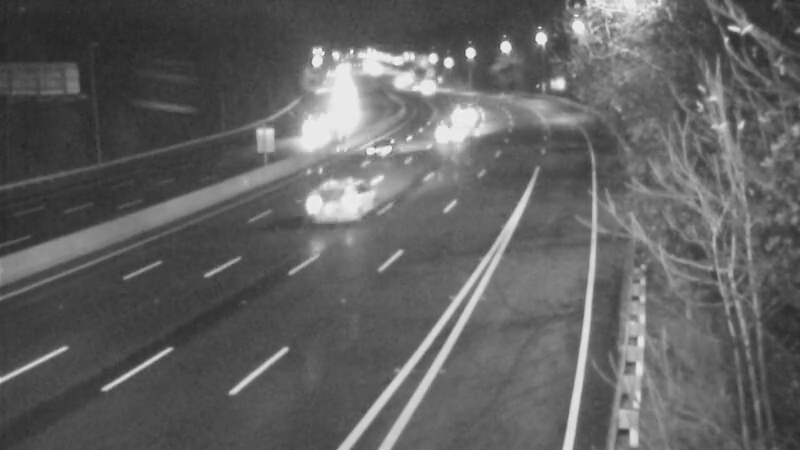vehicle: (297, 163, 377, 243), (403, 62, 453, 112), (438, 87, 488, 137), (422, 106, 472, 156), (360, 125, 410, 175), (291, 111, 341, 161)
